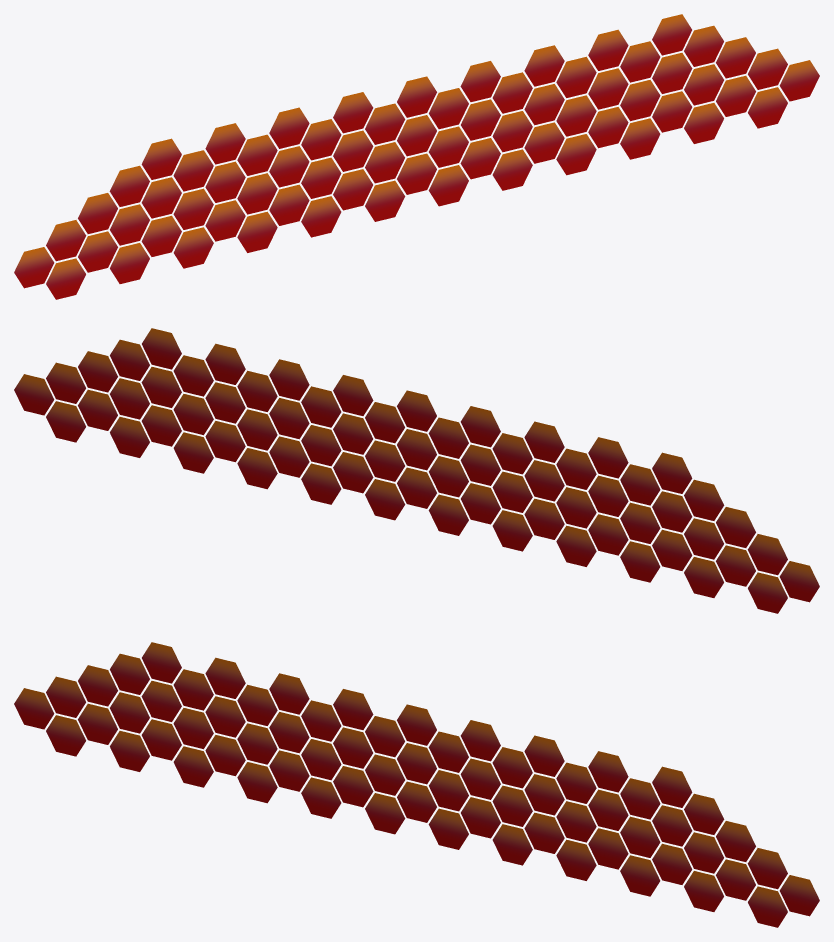
The model's file is Trenas_Brain.fbx.
3 views of the same model, one above another, from view 1: azimuth 30°, elevation 25°; view 2: azimuth 150°, elevation 25°; view 3: azimuth 330°, elevation 25° (orthographic).
Parts seen in each view (by area): view 1: Trenas_Brain; view 2: Trenas_Brain; view 3: Trenas_Brain.
Boxes of the visible parts, x1,y1,x2,y2 form: Trenas_Brain: (14, 14, 819, 299); Trenas_Brain: (14, 328, 819, 613); Trenas_Brain: (14, 642, 819, 927).
Size of the model in its own units: 6419 by 1012 by 0.
